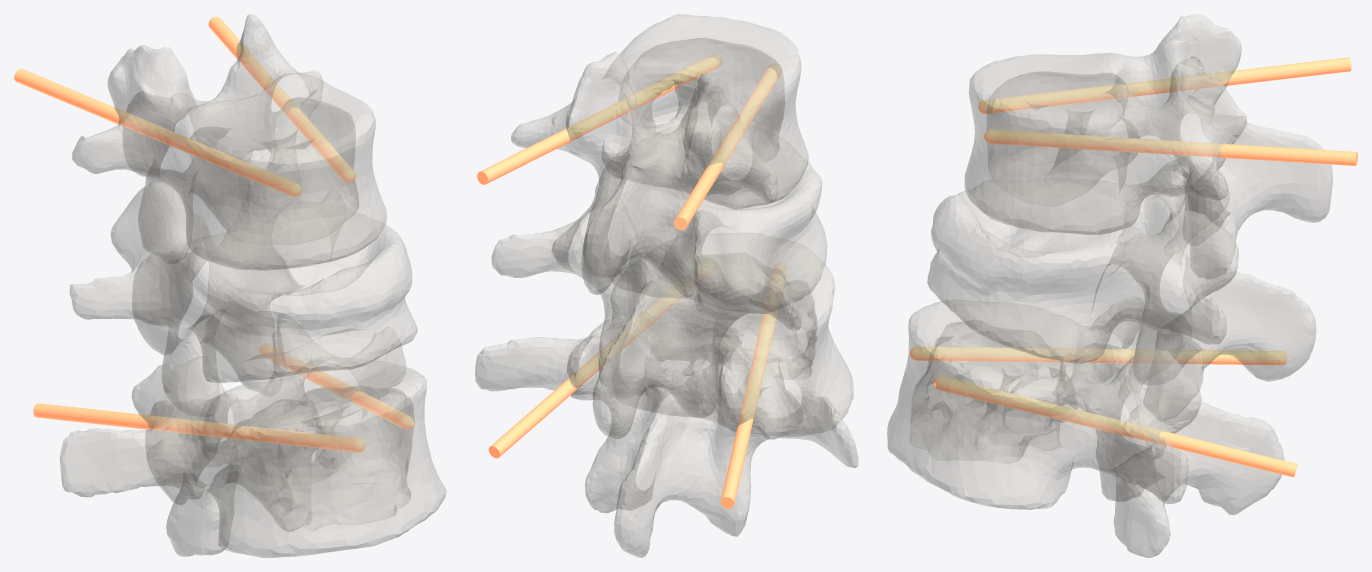
The picture shows the model from 3 angles, left to right: view 1: azimuth 30°, elevation 25°; view 2: azimuth 150°, elevation 25°; view 3: azimuth 270°, elevation 25°; orthographic projection. The views are drawn at different scales.
Visible parts, largest first — view 1: L3, L1, L2, Trajectoires; view 2: L3, L1, L2, Trajectoires; view 3: L3, L2, L1, Trajectoires.
Boxes of the visible parts, x1,y1,x2,y2 form: L3: [60, 313, 446, 557]; L1: [72, 14, 386, 270]; L2: [69, 182, 417, 417]; Trajectoires: [14, 16, 413, 452]; L3: [475, 233, 858, 557]; L1: [511, 14, 808, 297]; L2: [491, 137, 827, 438]; Trajectoires: [477, 54, 786, 508]; L3: [887, 298, 1284, 557]; L2: [927, 156, 1316, 421]; L1: [964, 14, 1333, 278]; Trajectoires: [910, 57, 1357, 477].
Size of the model in its own units: 0.0936 by 0.1196 by 0.106.
